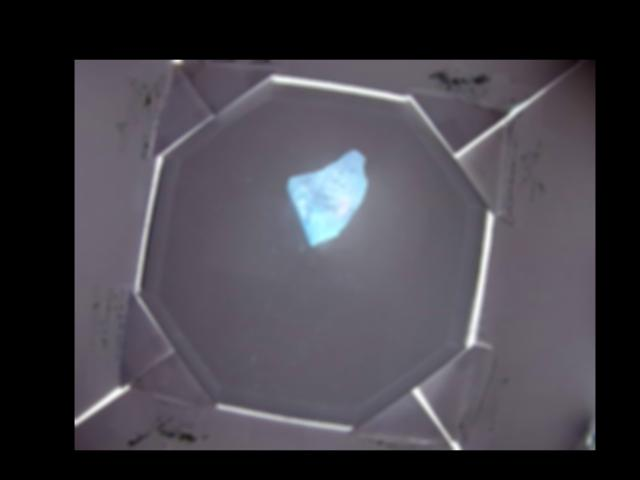Brisk: (287, 149, 366, 244)
